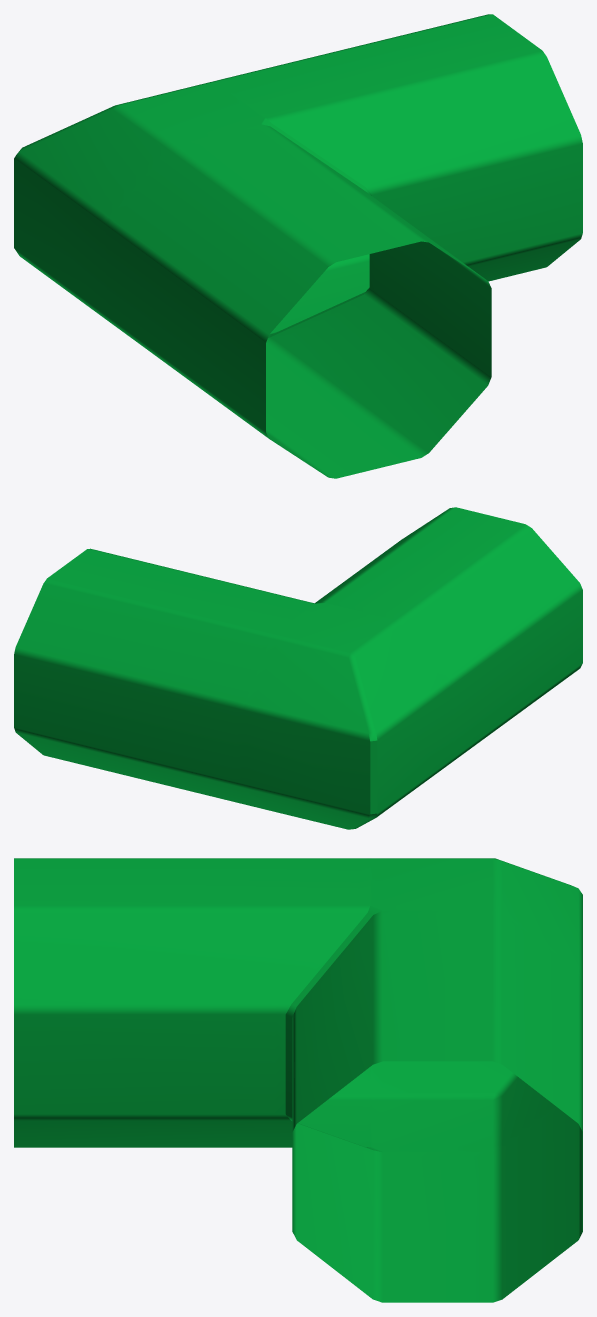
File: L corridor soft.fbx
The picture shows the model from 3 angles, top to bottom: view 1: azimuth 30°, elevation 25°; view 2: azimuth 150°, elevation 25°; view 3: azimuth 270°, elevation 25°; orthographic projection. The views are drawn at different scales.
Visible parts, largest first — view 1: L_Corridor; view 2: L_Corridor; view 3: L_Corridor.
Part boxes in pixels (bbox=[...]): L_Corridor: bbox=[14, 14, 582, 478]; L_Corridor: bbox=[14, 507, 582, 829]; L_Corridor: bbox=[14, 858, 582, 1302].
Size of the model in its own units: 47 by 22 by 47.
